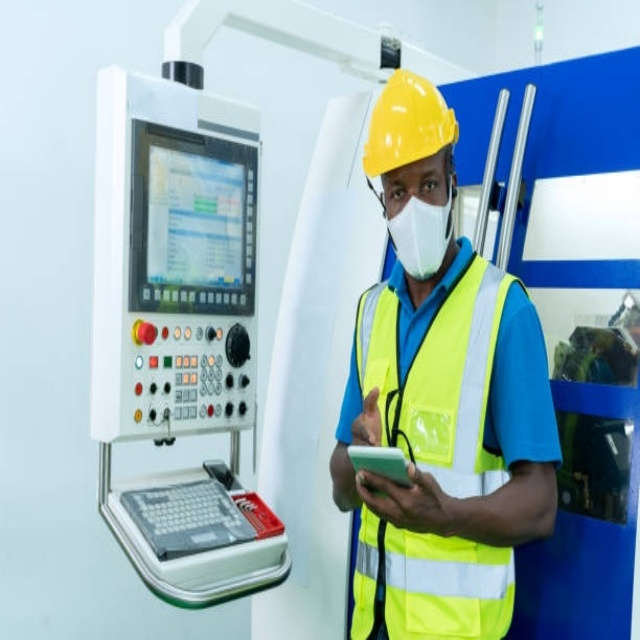Mascara: (384, 178, 455, 279)
Sin_gafas: (385, 162, 441, 205)
Sin_guantes: (355, 458, 442, 535), (350, 381, 391, 441)
